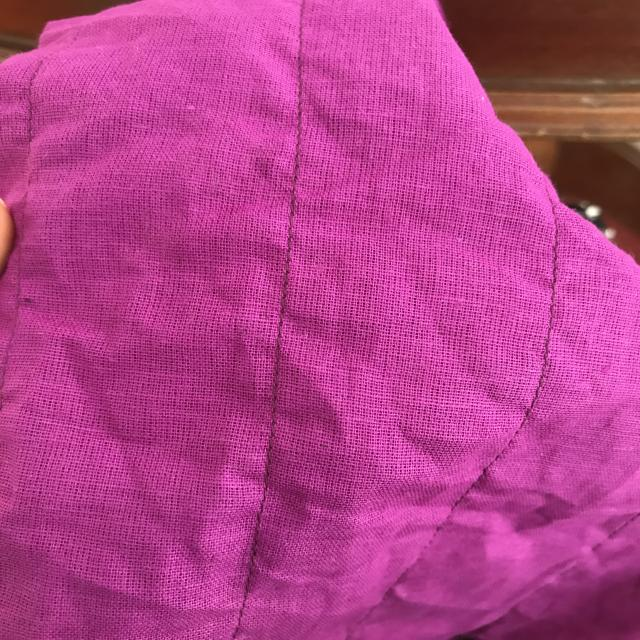good: (269, 102, 318, 201), (266, 272, 313, 338), (545, 272, 571, 359)
